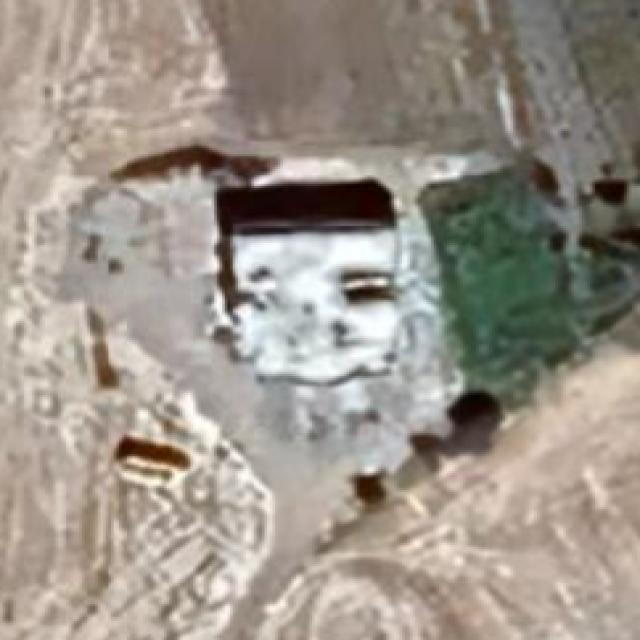Batiment: (221, 180, 394, 386)
